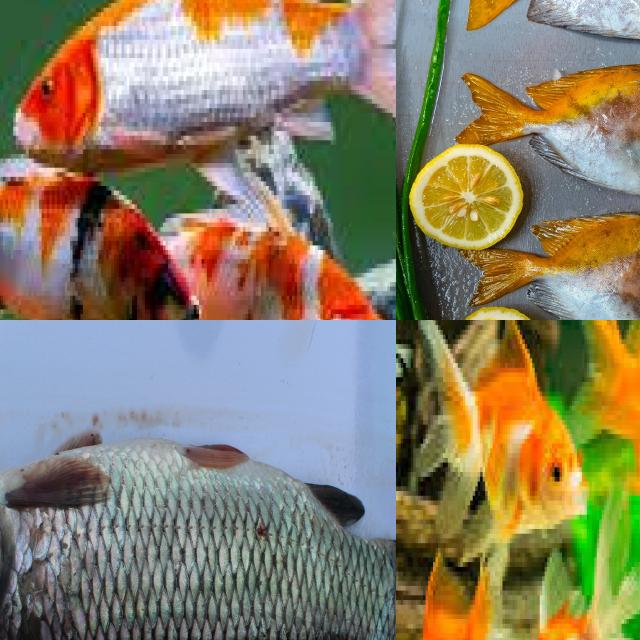fish: (0, 0, 396, 320), (0, 393, 396, 640), (396, 320, 626, 640), (435, 168, 632, 276)
